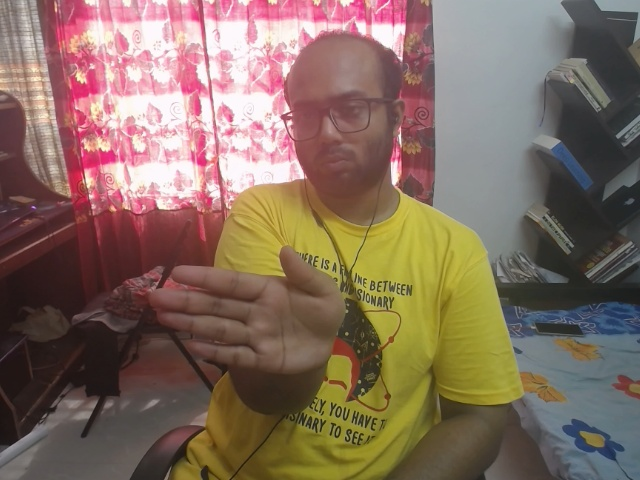south: (139, 235, 379, 404)
